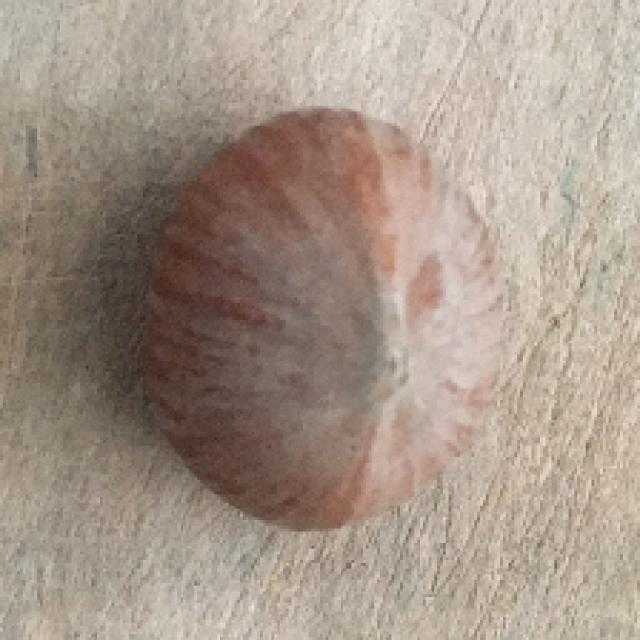QualityHazelnut: (136, 115, 517, 532)
